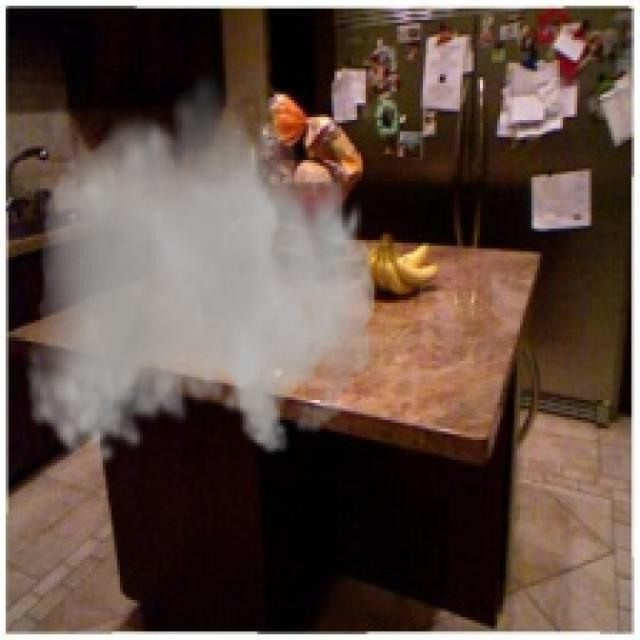Smoke: (26, 66, 374, 466)
